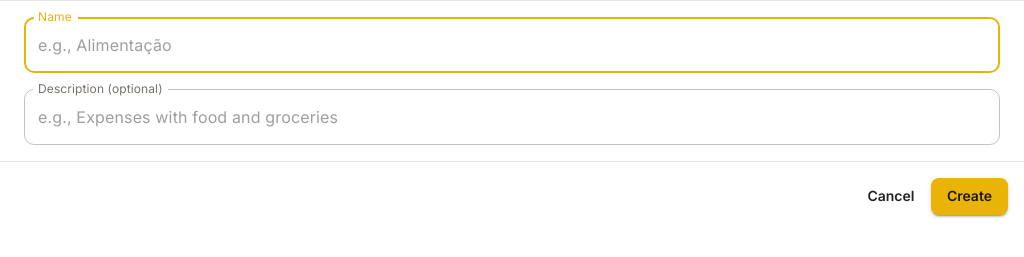
Scenario: CategoryForm › requires a name
Click the button "Create": (969, 196) [931, 178, 1008, 214]
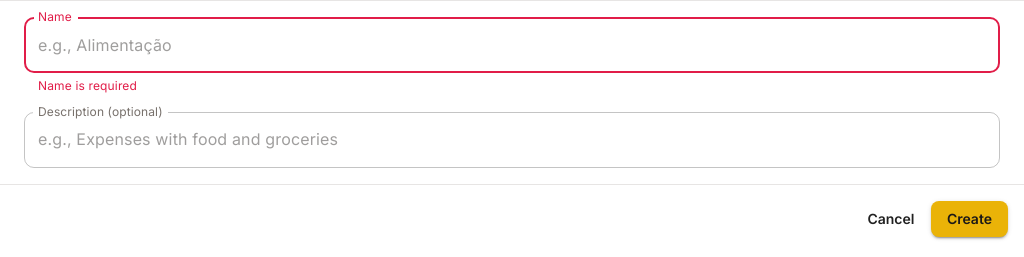
Check: the text "Name is required" is shown, box [38, 78, 137, 93]
